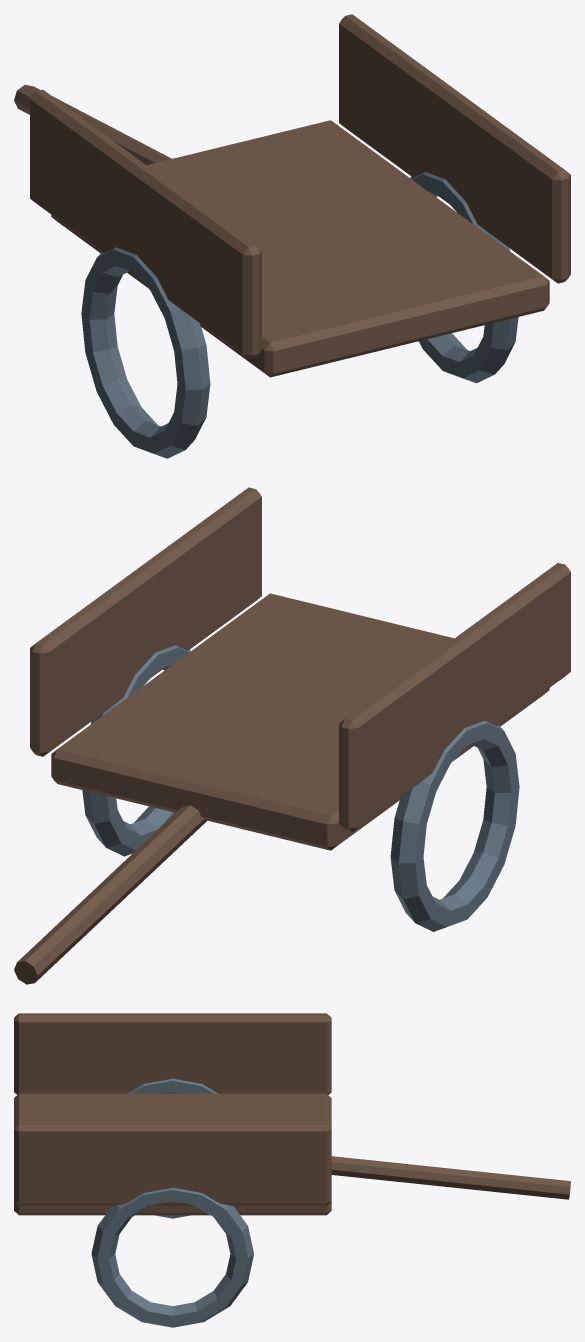
The model's file is SH10_L03_Cart.fbx.
The picture shows the model from 3 angles, top to bottom: view 1: azimuth 30°, elevation 25°; view 2: azimuth 150°, elevation 25°; view 3: azimuth 270°, elevation 25°; orthographic projection. The views are drawn at different scales.
Visible parts, largest first — view 1: SH10_L03_Cart; view 2: SH10_L03_Cart; view 3: SH10_L03_Cart.
Boxes of the visible parts, x1,y1,x2,y2 form: SH10_L03_Cart: [14, 14, 570, 458]; SH10_L03_Cart: [14, 487, 570, 984]; SH10_L03_Cart: [14, 1013, 570, 1327].
Size of the model in its own units: 140 by 114 by 281.
